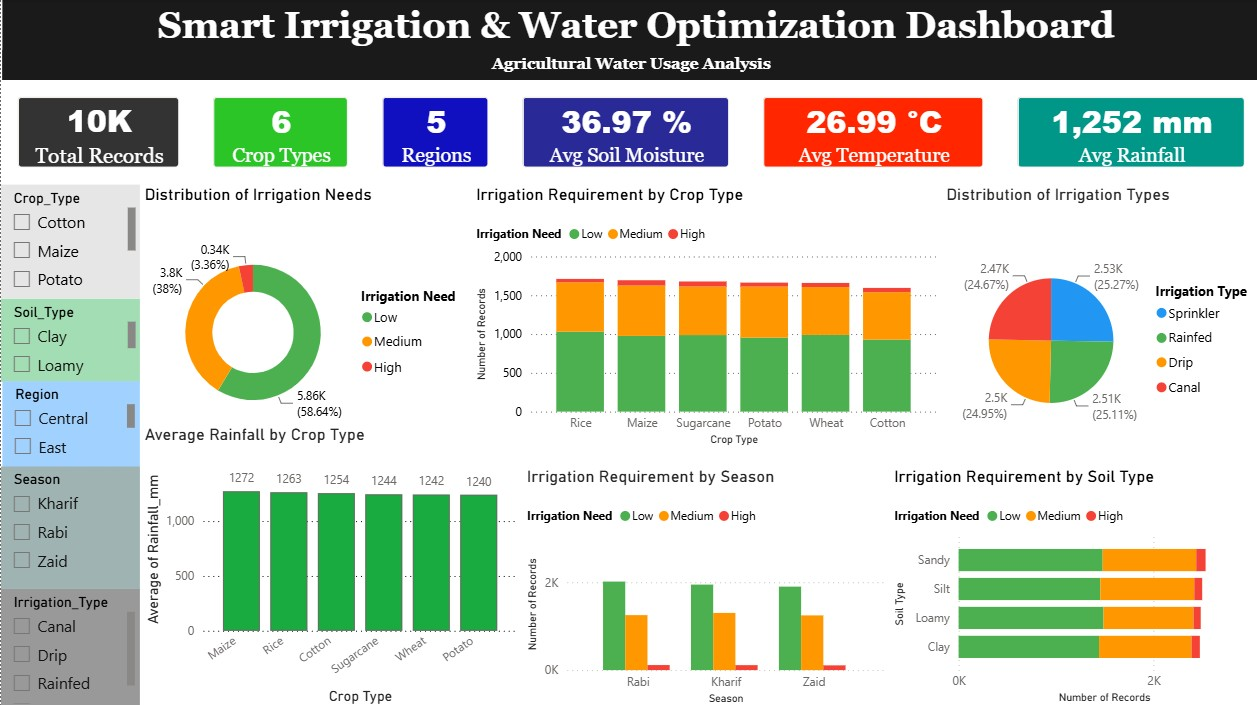

Layout of this report page (visuals, bound fields, positions):
{"tool":"powerbi","page":{"name":"Page 1","canvas":[1280,720],"ordinal":0},"visuals":[{"type":"cardVisual","fields":{"Data":["irrigation_prediction.Total Records"]},"box":[0,82.4,198.3,106.1],"z":0},{"type":"cardVisual","fields":{"Data":["irrigation_prediction.Crop Types"]},"box":[198.3,82.4,171.8,106.1],"z":1000},{"type":"cardVisual","fields":{"Data":["irrigation_prediction.Regions"]},"box":[370.1,82.4,142.5,106.1],"z":2000},{"type":"cardVisual","fields":{"Data":["irrigation_prediction.Average Soil Moisture"]},"box":[512.6,82.4,244.4,106.1],"z":3000},{"type":"cardVisual","fields":{"Data":["irrigation_prediction.Average Temperature"]},"box":[757,82.4,258.4,106.1],"z":4000},{"type":"cardVisual","fields":{"Data":["irrigation_prediction.Average Rainfall"]},"box":[1015.3,82.4,265.4,106.1],"z":5000},{"type":"donutChart","title":"Distribution of Irrigation Needs","fields":{"Category":["irrigation_prediction.Irrigation_Need"],"Y":["CountNonNull(irrigation_prediction.Irrigation_Need)"]},"box":[141.1,188.5,336.6,269.5],"z":6000},{"type":"columnChart","title":"Irrigation Requirement by Crop Type","fields":{"Category":["irrigation_prediction.Crop_Type"],"Series":["irrigation_prediction.Irrigation_Need"],"Y":["CountNonNull(irrigation_prediction.Irrigation_Need)"]},"box":[477.6,188.5,477.6,269.5],"z":7000},{"type":"barChart","title":"Irrigation Requirement by Soil Type","fields":{"Category":["irrigation_prediction.Soil_Type"],"Series":["irrigation_prediction.Irrigation_Need"],"Y":["CountNonNull(irrigation_prediction.Irrigation_Need)"]},"box":[902,475,379.1,245.2],"z":8000},{"type":"clusteredColumnChart","title":"Average Rainfall by Crop Type","fields":{"Category":["irrigation_prediction.Crop_Type"],"Y":["Avg(irrigation_prediction.Rainfall_mm)"]},"box":[141.1,431.6,388.3,289.1],"z":9000},{"type":"clusteredColumnChart","title":"Irrigation Requirement by Season","fields":{"Category":["irrigation_prediction.Season"],"Series":["irrigation_prediction.Irrigation_Need"],"Y":["CountNonNull(irrigation_prediction.Irrigation_Need)"]},"box":[529.3,474.8,372.9,245.8],"z":10000},{"type":"pieChart","title":"Distribution of Irrigation Types","fields":{"Category":["irrigation_prediction.Irrigation_Type"],"Y":["CountNonNull(irrigation_prediction.Irrigation_Type)"]},"box":[955.3,188.5,325.4,286.3],"z":11000},{"type":"slicer","fields":{"Values":["irrigation_prediction.Crop_Type"]},"box":[0,188.6,141.4,115.7],"z":12000},{"type":"slicer","fields":{"Values":["irrigation_prediction.Soil_Type"]},"box":[0,304.3,141.4,84.3],"z":13000},{"type":"slicer","fields":{"Values":["irrigation_prediction.Region"]},"box":[1.4,387.6,139.5,87.4],"z":14000},{"type":"slicer","fields":{"Values":["irrigation_prediction.Season"]},"box":[0,474.8,141.1,124.3],"z":15000},{"type":"slicer","fields":{"Values":["irrigation_prediction.Irrigation_Type"]},"box":[0,599.1,141.1,121.5],"z":16000},{"type":"textbox","box":[1.4,0,1277.9,82.4],"z":17000},{"type":"textbox","box":[1.4,51.7,1277.9,30.7],"z":18000}]}

Visuals, with their boxes in screenshot pixels (x1, y1, x2, y2), scaled from the page's 1280x720 canvas onto the 1257x705 screenshot:
cardVisual - irrigation_prediction.Total Records: select_region(0, 81, 195, 185)
cardVisual - irrigation_prediction.Crop Types: select_region(195, 81, 363, 185)
cardVisual - irrigation_prediction.Regions: select_region(363, 81, 503, 185)
cardVisual - irrigation_prediction.Average Soil Moisture: select_region(503, 81, 743, 185)
cardVisual - irrigation_prediction.Average Temperature: select_region(743, 81, 997, 185)
cardVisual - irrigation_prediction.Average Rainfall: select_region(997, 81, 1256, 185)
"Distribution of Irrigation Needs" donutChart: select_region(139, 185, 469, 448)
"Irrigation Requirement by Crop Type" columnChart: select_region(469, 185, 938, 448)
"Irrigation Requirement by Soil Type" barChart: select_region(886, 465, 1256, 704)
"Average Rainfall by Crop Type" clusteredColumnChart: select_region(139, 423, 520, 704)
"Irrigation Requirement by Season" clusteredColumnChart: select_region(520, 465, 886, 704)
"Distribution of Irrigation Types" pieChart: select_region(938, 185, 1256, 465)
slicer - irrigation_prediction.Crop_Type: select_region(0, 185, 139, 298)
slicer - irrigation_prediction.Soil_Type: select_region(0, 298, 139, 381)
slicer - irrigation_prediction.Region: select_region(1, 380, 138, 465)
slicer - irrigation_prediction.Season: select_region(0, 465, 139, 587)
slicer - irrigation_prediction.Irrigation_Type: select_region(0, 587, 139, 704)
textbox: select_region(1, 0, 1256, 81)
textbox: select_region(1, 51, 1256, 81)
